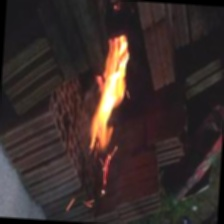fire: (74, 18, 145, 192)
